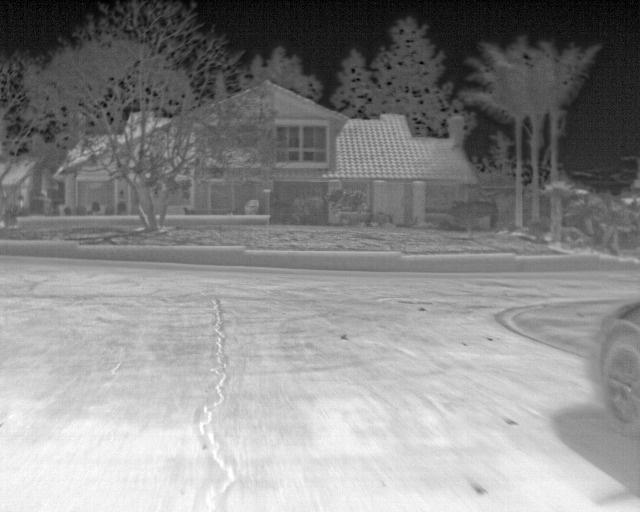car: (585, 301, 639, 437)
